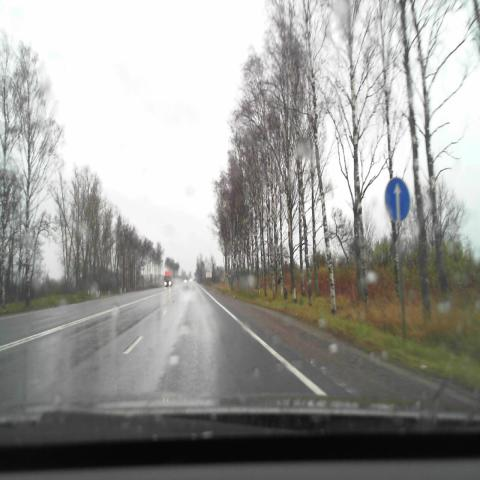4_1_1: (384, 177, 410, 221)
